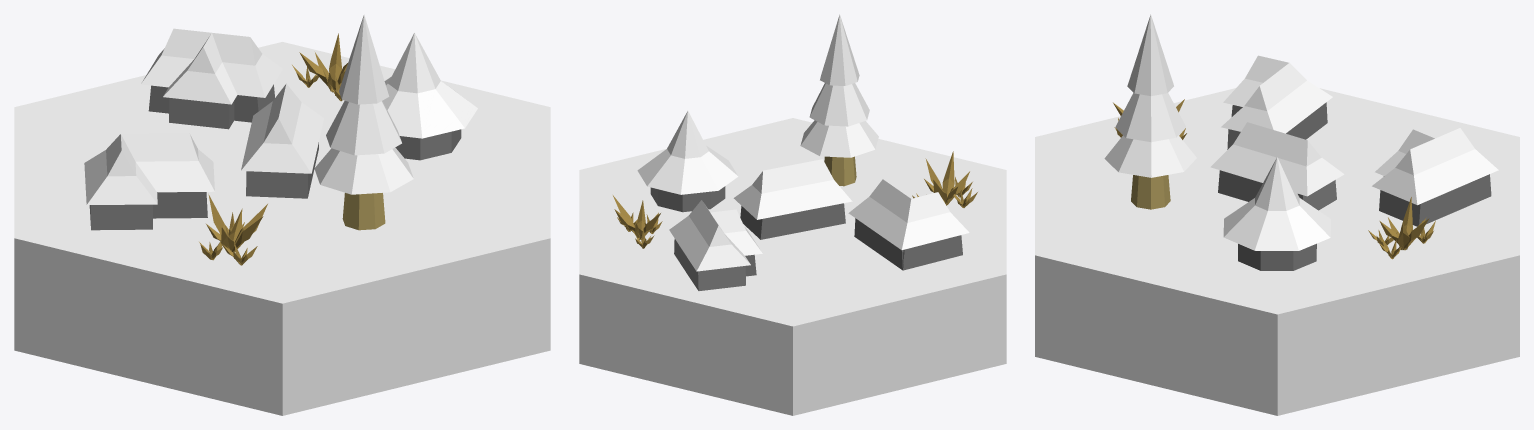
The model's file is Casas_Pinos_Bajos_Nieve_4.fbx.
3 renders of one model, left to right at view 1: azimuth 30°, elevation 25°; view 2: azimuth 150°, elevation 25°; view 3: azimuth 270°, elevation 25°, orthographic. The views are drawn at different scales.
Parts seen in each view (by area): view 1: Casas_Pinos_Bajos_Nieve_4; view 2: Casas_Pinos_Bajos_Nieve_4; view 3: Casas_Pinos_Bajos_Nieve_4.
Boxes of the visible parts, x1,y1,x2,y2 form: Casas_Pinos_Bajos_Nieve_4: (14, 14, 550, 415); Casas_Pinos_Bajos_Nieve_4: (579, 14, 1006, 415); Casas_Pinos_Bajos_Nieve_4: (1035, 14, 1519, 415).
Bounding box in the file's own units: 200 × 114 × 173.
